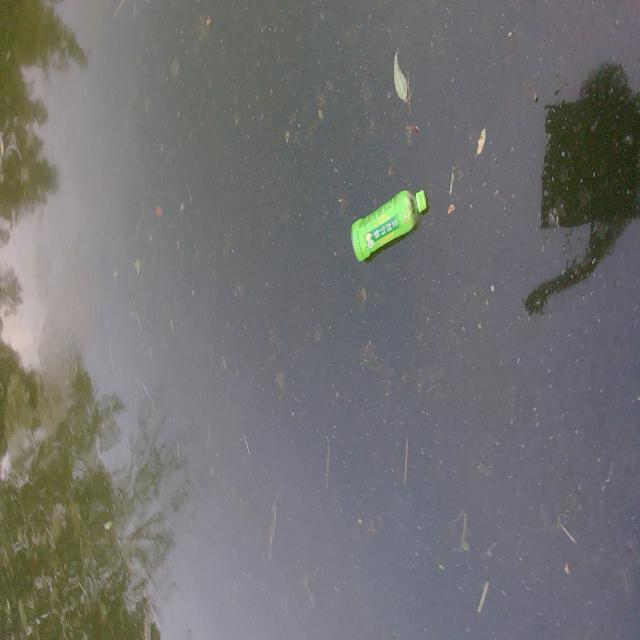Bottle: (344, 182, 439, 271)
